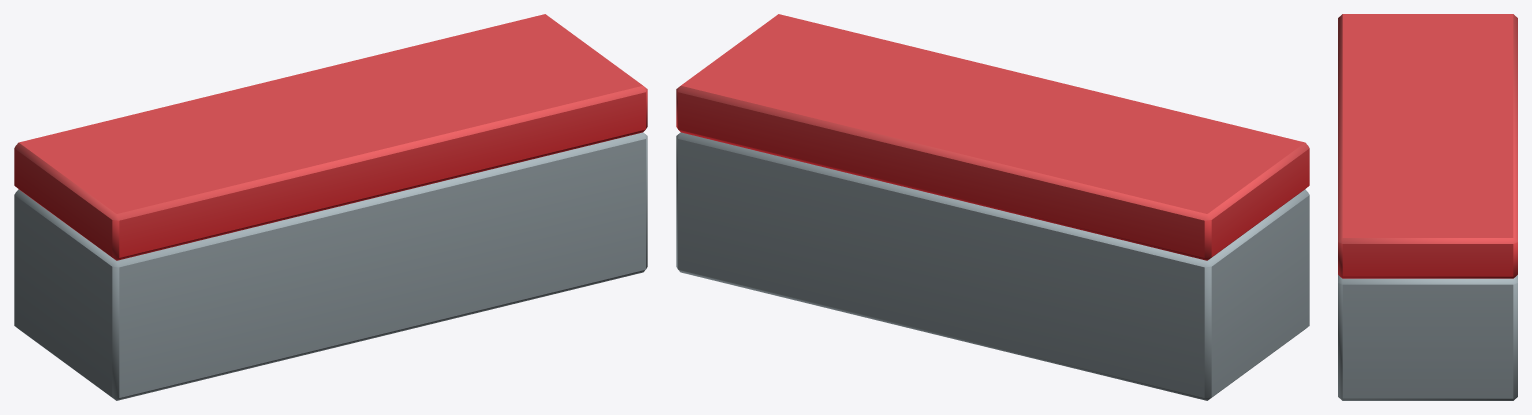
File: platform_6x2x2_red.glb
3 views of the same model, side by side, from view 1: azimuth 30°, elevation 25°; view 2: azimuth 150°, elevation 25°; view 3: azimuth 270°, elevation 25° (orthographic). The views are drawn at different scales.
Visible parts, largest first — view 1: platform_6x2x2_red; view 2: platform_6x2x2_red; view 3: platform_6x2x2_red.
Part boxes in pixels (box(x1,y1,x2,y2)): platform_6x2x2_red: box(14, 14, 647, 400); platform_6x2x2_red: box(676, 14, 1309, 400); platform_6x2x2_red: box(1338, 14, 1517, 400).
Size of the model in its own units: 6 by 2 by 2.
Materials: 1 (1 with a texture image).
